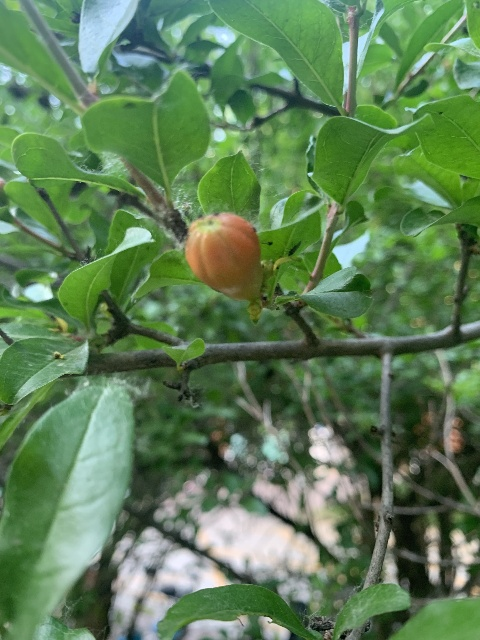bud: (184, 212, 263, 302)
